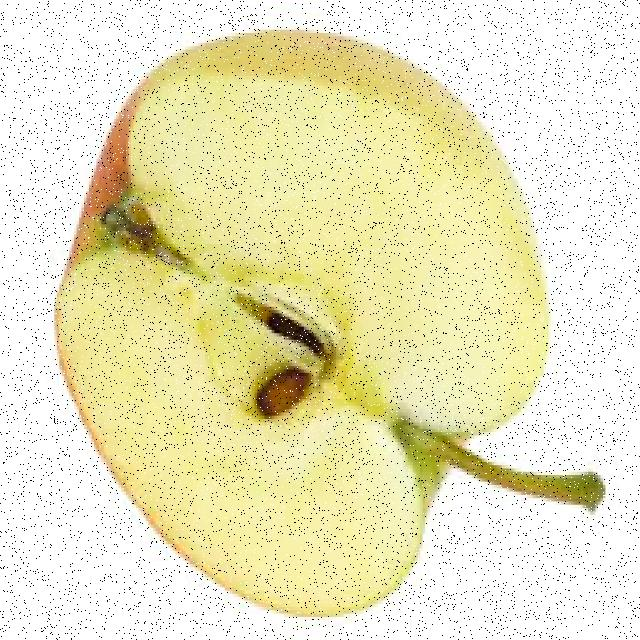Apple: (55, 31, 549, 613)
